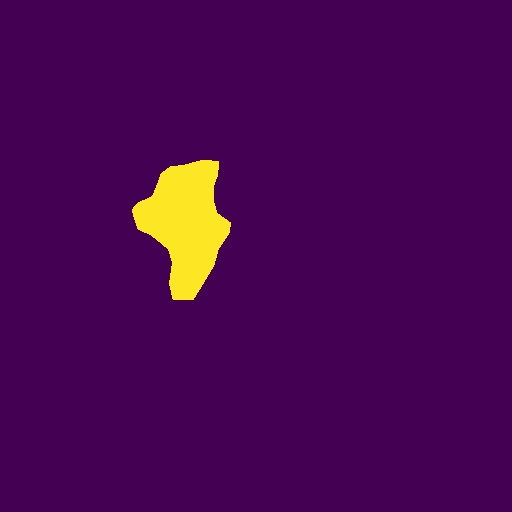Gliomia_tumour: (132, 160, 231, 300)
